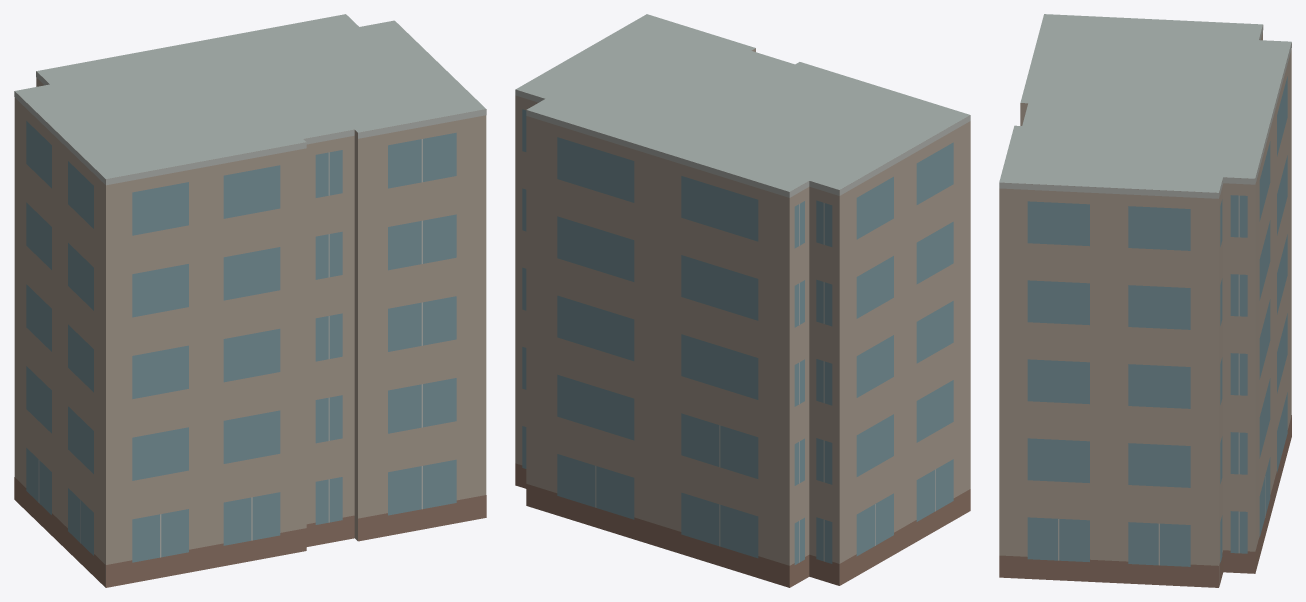
Rendered from survey-upis-32662589.glb.
The picture shows the model from 3 angles, left to right: view 1: azimuth 30°, elevation 25°; view 2: azimuth 150°, elevation 25°; view 3: azimuth 270°, elevation 25°; orthographic projection. The views are drawn at different scales.
Visible parts, largest first — view 1: survey-upis-32662589.tmp; view 2: survey-upis-32662589.tmp; view 3: survey-upis-32662589.tmp.
Boxes of the visible parts, x1=… form: survey-upis-32662589.tmp: x1=14, y1=14, x2=486, y2=587; survey-upis-32662589.tmp: x1=515, y1=14, x2=970, y2=587; survey-upis-32662589.tmp: x1=999, y1=14, x2=1291, y2=587.
Size of the model in its own units: 15.79 by 16.25 by 10.92.
